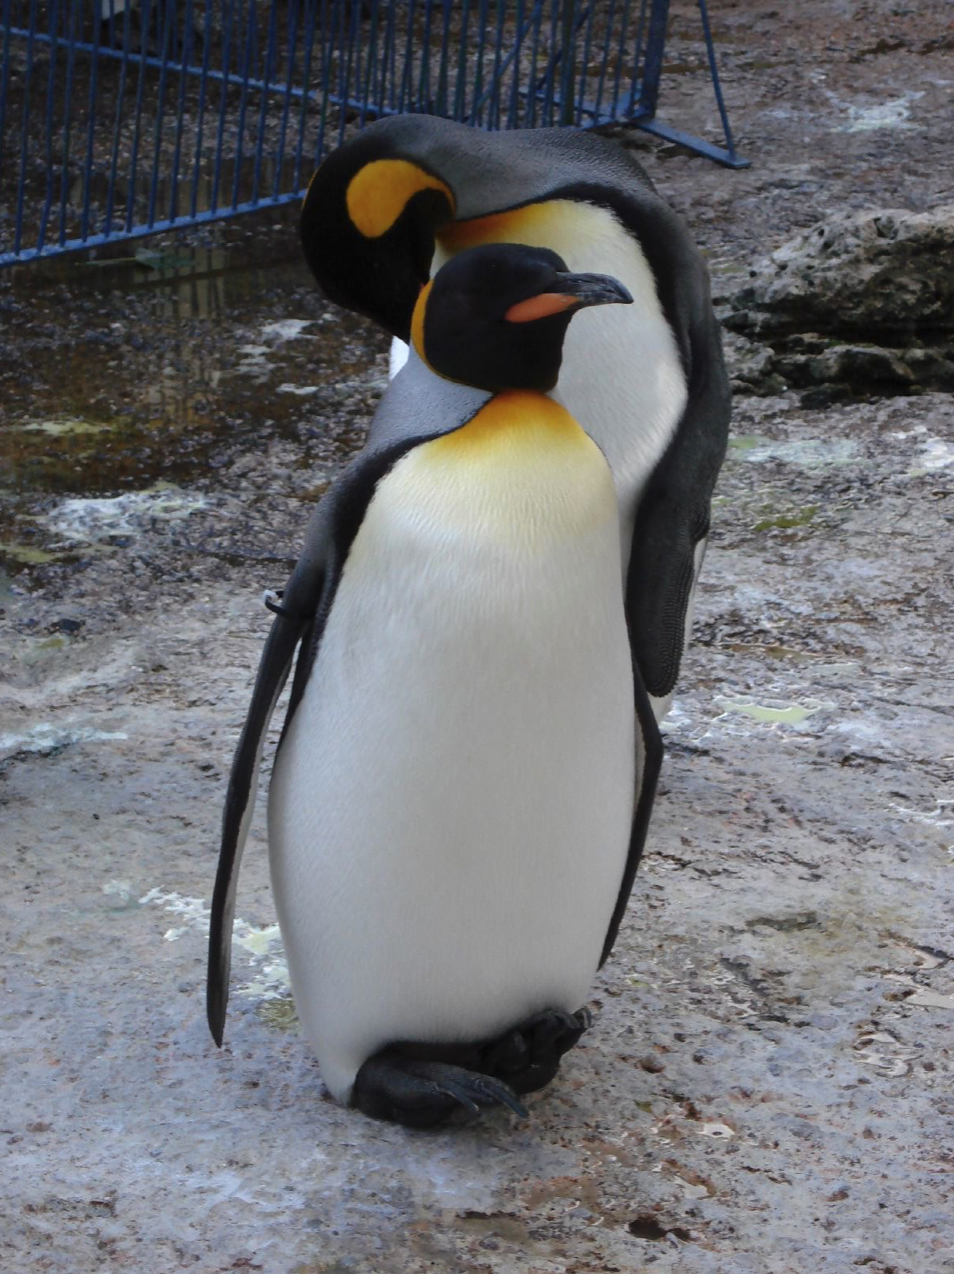penguin: (163, 243, 675, 1131)
